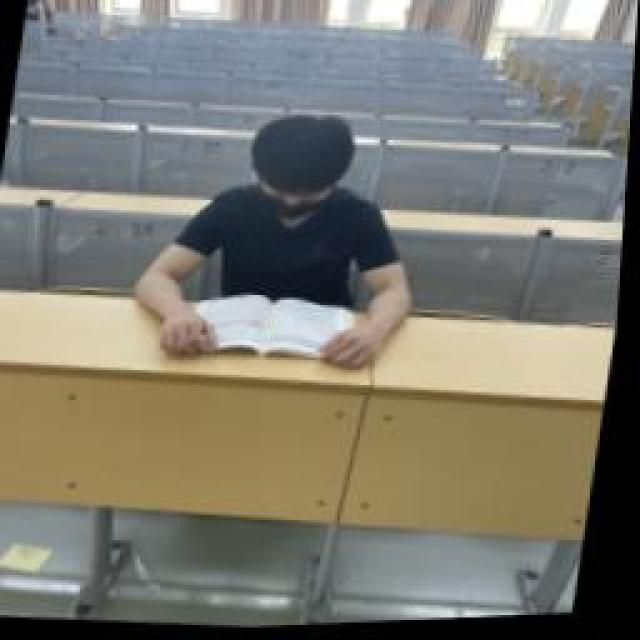study: (127, 100, 445, 385)
